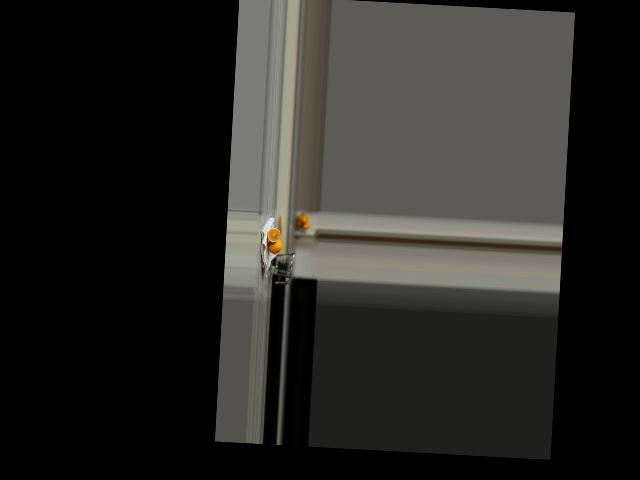lemon: (267, 236, 282, 255)
